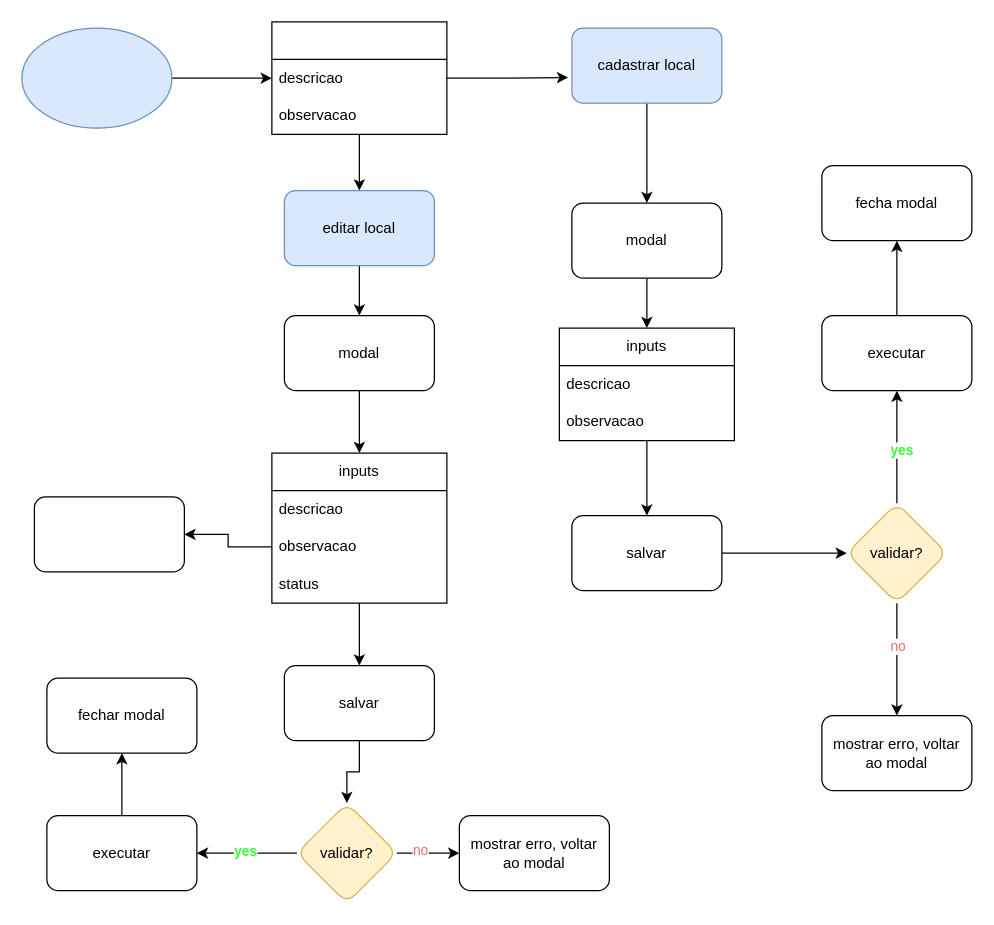
Some shapes in this 994 by 925 pixel diagram are drawn without their labels. Here are the shapes that lost their labels. From the top down, the box of each, then its label:
(271, 21, 447, 134): lista de locais
(33, 496, 184, 572): fechar
